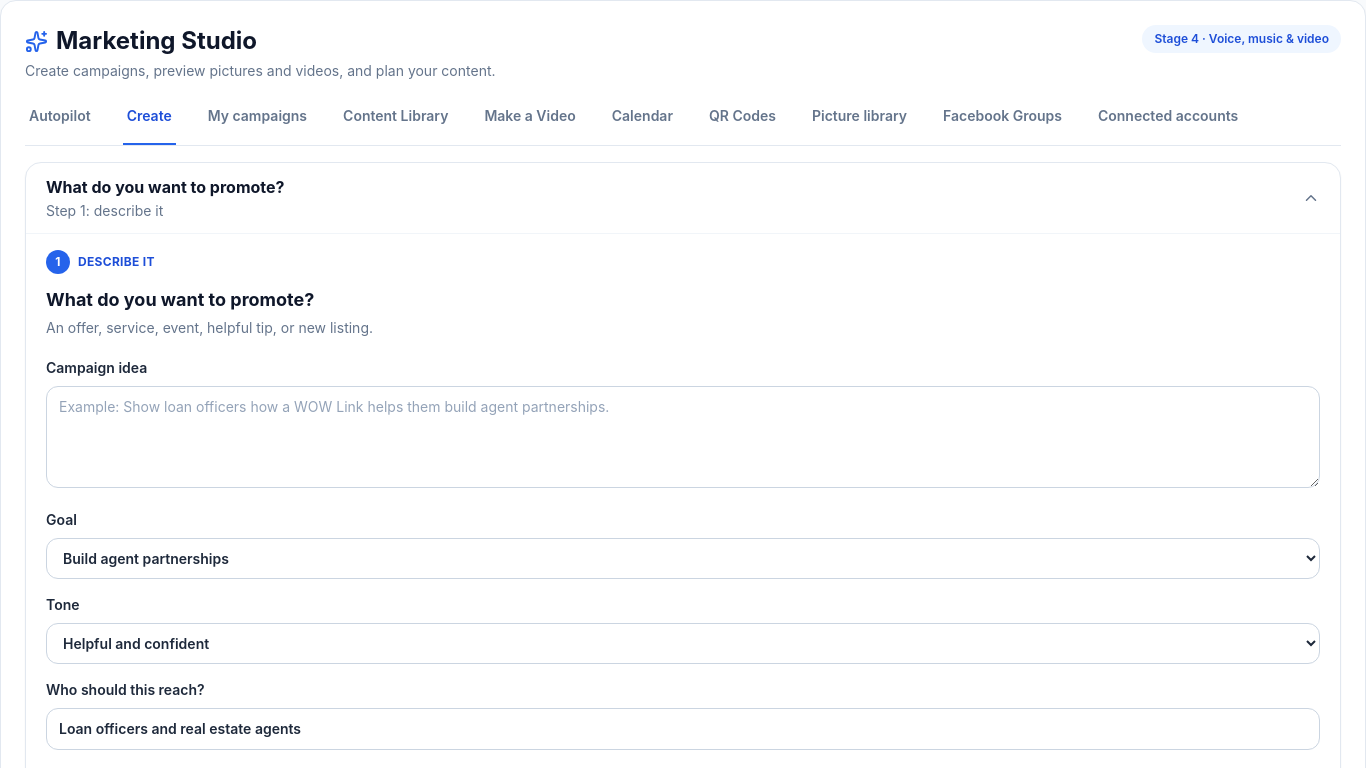
Scenario: generation failure retains the account-saved brief and provides a retry
This screenshot has width=1366, height=768.
Replace the text in the text box labelled "Campaign idea" with "New market idea": {"x": 683, "y": 437} x1=46 y1=386 x2=1320 y2=488
(page scrolled)
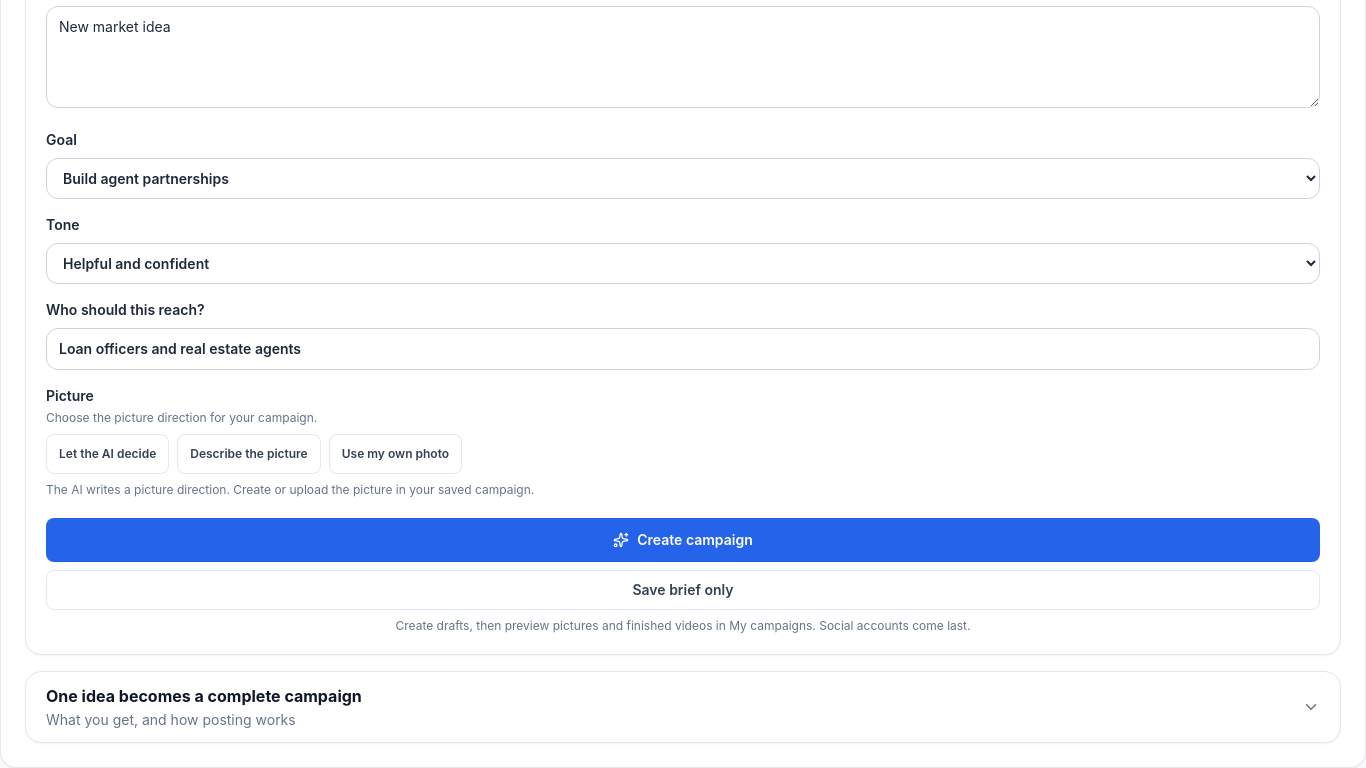
Click the button "Create campaign": {"x": 683, "y": 540} x1=46 y1=518 x2=1320 y2=562
(page scrolled)
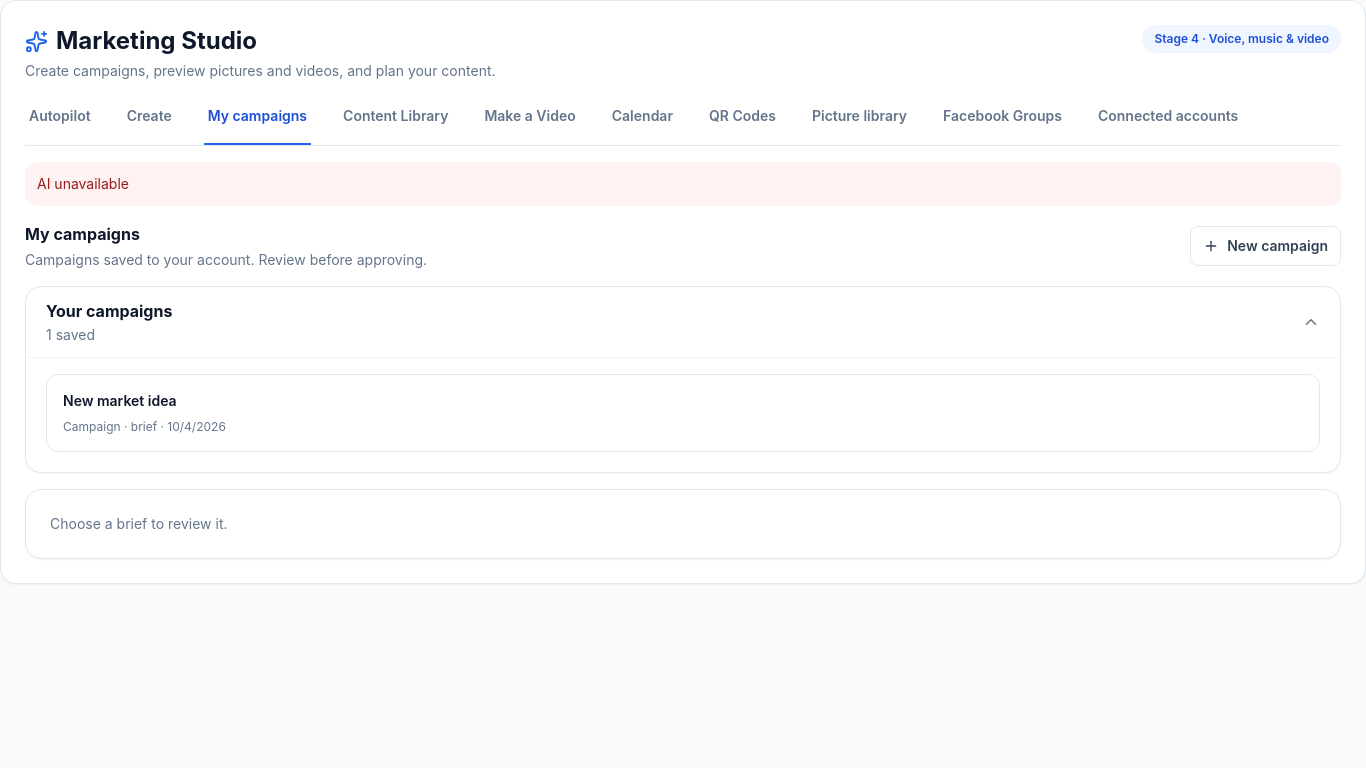
expect the text "AI unavailable" is shown: met, box x1=25 y1=162 x2=1341 y2=206
Click the button "New market idea Campaign · brief · 10/4/2026": {"x": 120, "y": 400} x1=46 y1=374 x2=1320 y2=452
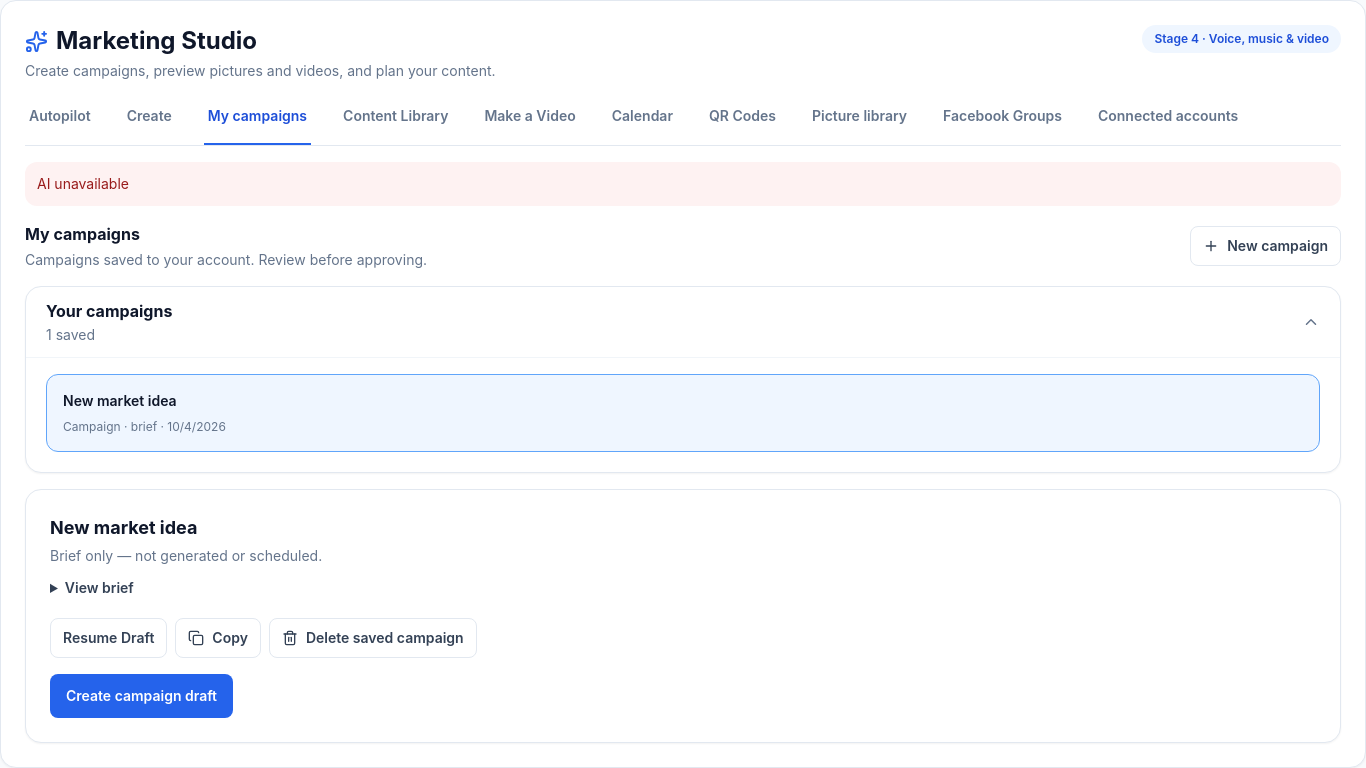
expect the button "Create campaign draft" is enabled: met, box x1=50 y1=674 x2=233 y2=718
